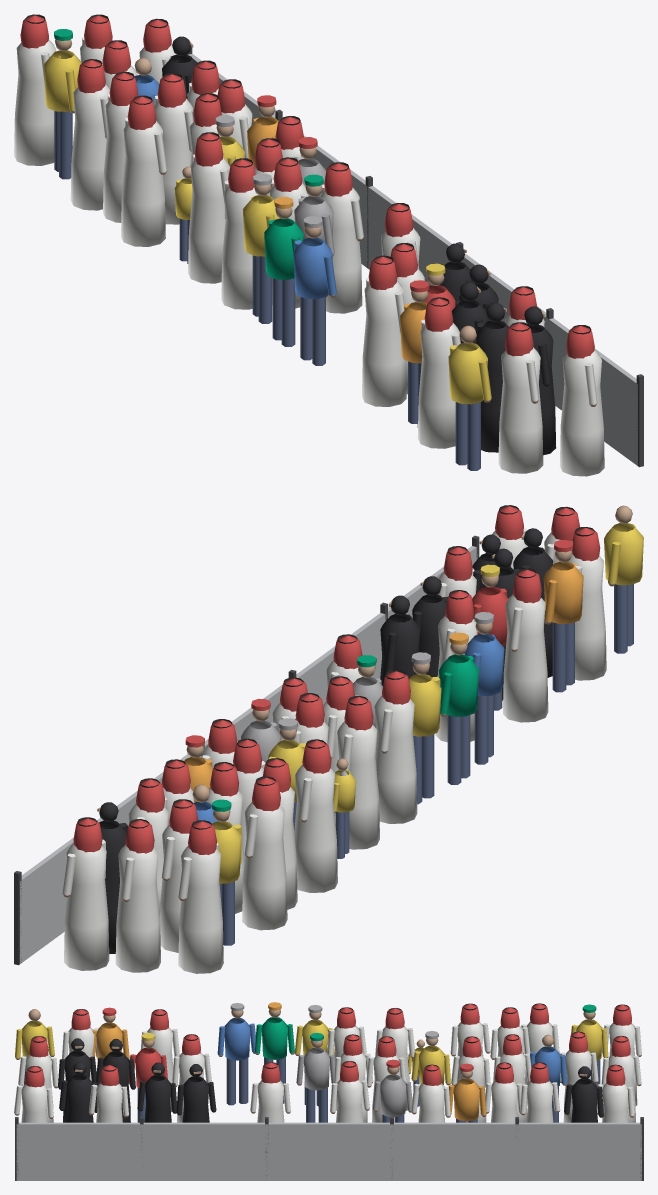
File: SM_Crowd_10m.fbx
3 renders of one model, top to bottom at view 1: azimuth 30°, elevation 25°; view 2: azimuth 150°, elevation 25°; view 3: azimuth 270°, elevation 25°, orthographic. The views are drawn at different scales.
Parts seen in each view (by area): view 1: SM_Crowd_10m; view 2: SM_Crowd_10m; view 3: SM_Crowd_10m.
Boxes of the visible parts, x1,y1,x2,y2 form: SM_Crowd_10m: [14, 14, 643, 476]; SM_Crowd_10m: [14, 505, 643, 973]; SM_Crowd_10m: [14, 1002, 643, 1180].
Size of the model in its own units: 245 by 209 by 1007.
